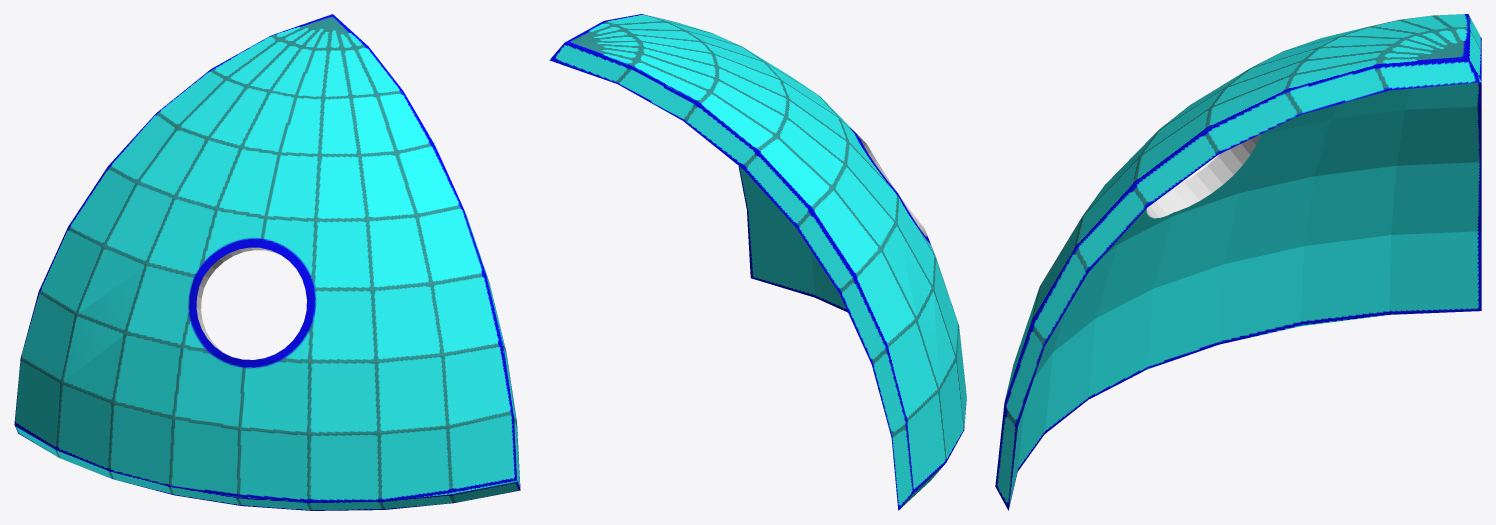
Rendered from 8thSphere_HoleV06.gltf.
3 views of the same model, side by side, from view 1: azimuth 30°, elevation 25°; view 2: azimuth 150°, elevation 25°; view 3: azimuth 270°, elevation 25° (orthographic). The views are drawn at different scales.
Visible parts, largest first — view 1: Sphere; view 2: Sphere; view 3: Sphere.
Boxes of the visible parts, left/top/right/bottom form: Sphere: left=14, top=14, right=520, bottom=510; Sphere: left=549, top=14, right=966, bottom=510; Sphere: left=995, top=14, right=1481, bottom=510.
Size of the model in its own units: 1.03 by 1.04 by 1.03.
Materials: 1 (1 with a texture image).
